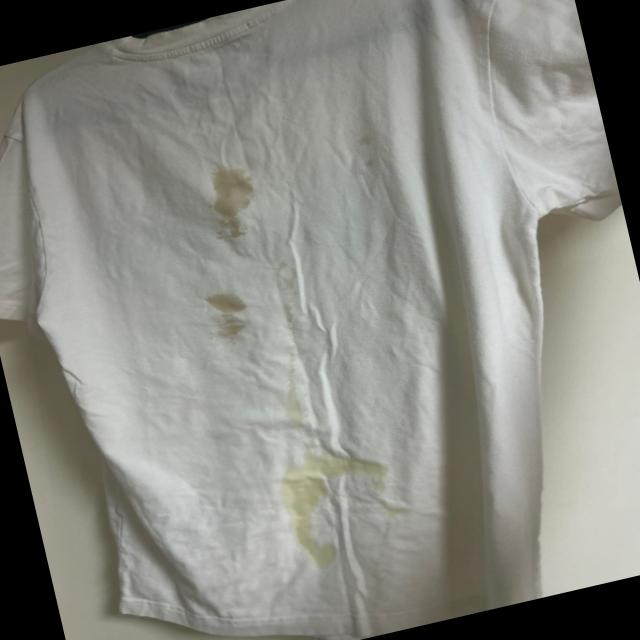stain: (274, 447, 387, 567), (198, 156, 270, 242), (347, 446, 401, 518), (202, 284, 252, 346), (278, 359, 314, 433), (264, 262, 304, 308), (379, 488, 424, 526), (354, 126, 382, 173)
